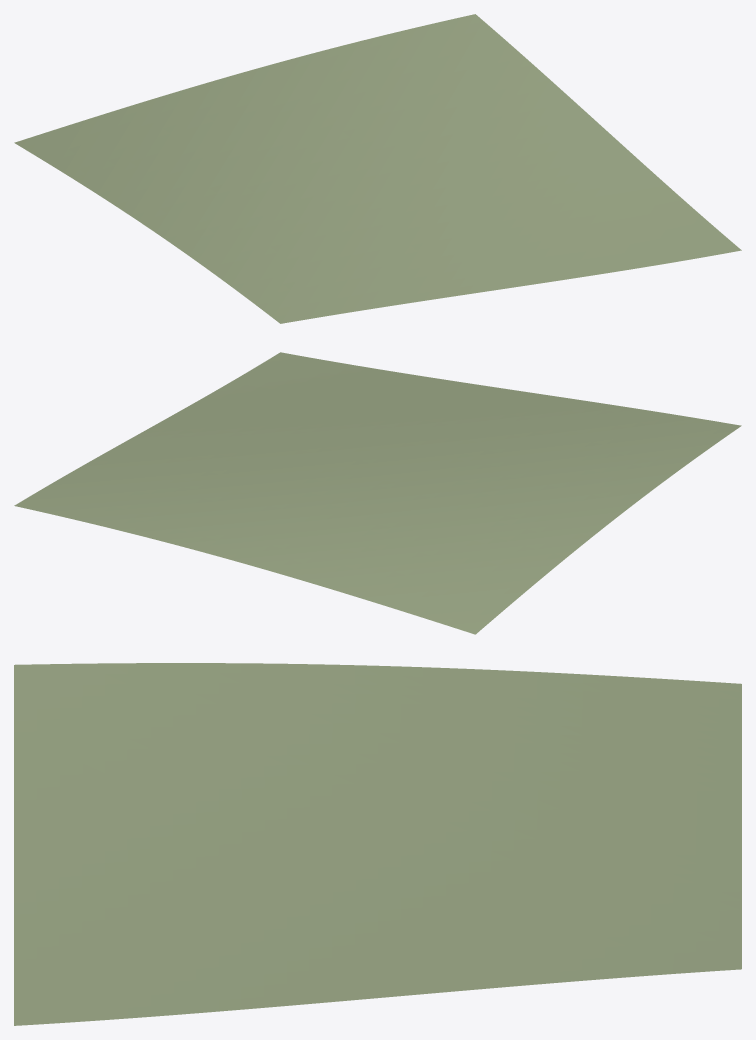
File: alpine-15-2.glb
3 renders of one model, top to bottom at view 1: azimuth 30°, elevation 25°; view 2: azimuth 150°, elevation 25°; view 3: azimuth 270°, elevation 25°, orthographic. The views are drawn at different scales.
Visible parts, largest first — view 1: alpine-15-2; view 2: alpine-15-2; view 3: alpine-15-2.
Part boxes in pixels (x1,y1,x2,y2): alpine-15-2: (14,14,741,323); alpine-15-2: (14,352,741,634); alpine-15-2: (14,663,741,1025).
Size of the model in its own units: 256 by 22.53 by 256.
